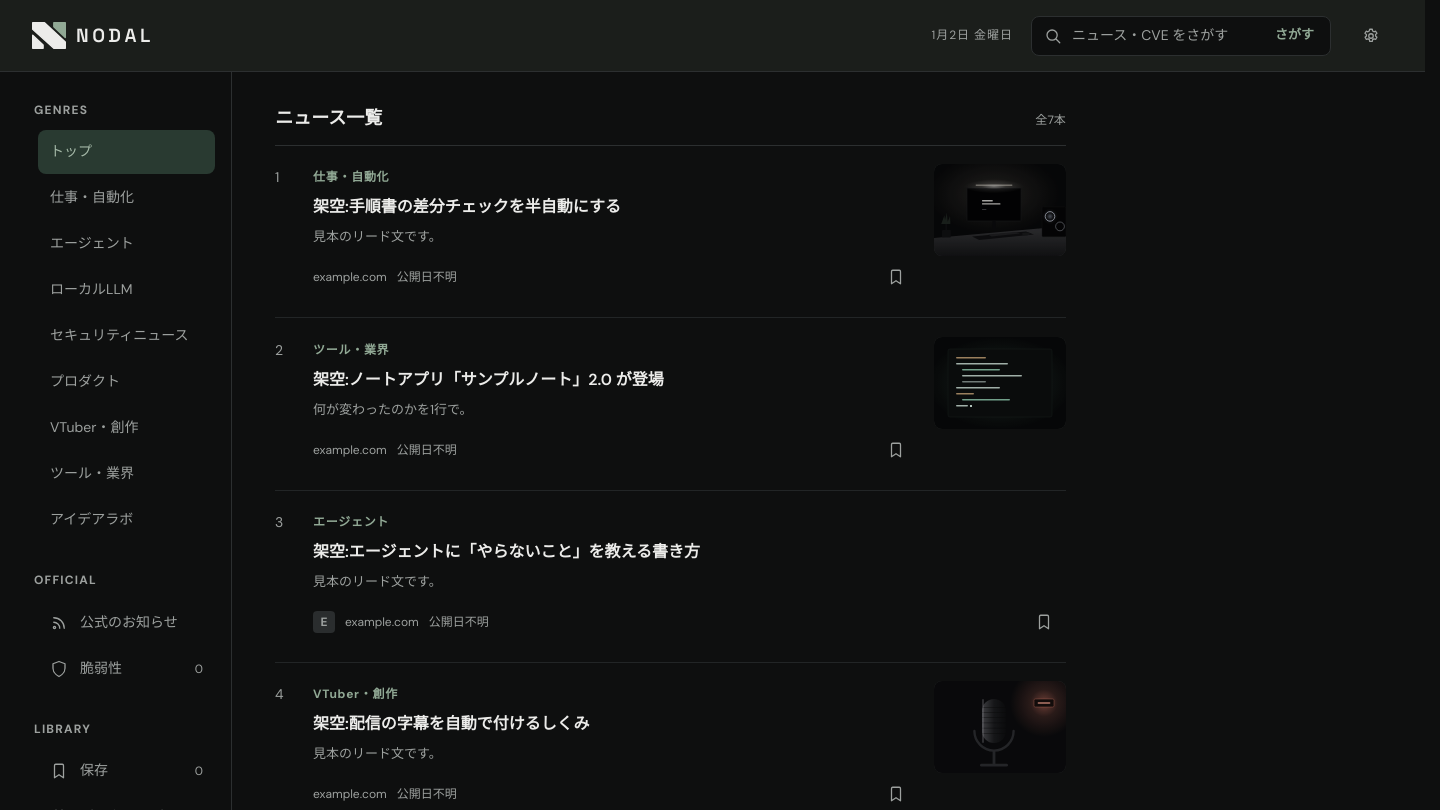
Test: トップ(今朝のネタ) › ラインナップの保存ボタンで保存でき、「保存しました」と知らせる。メニューの件数も変わる
(page scrolled)
Click the button named "保存する" below "架空:ノートアプリ「サンプルノート」2.0 が登場" at (896, 450), box [874,428,918,472]
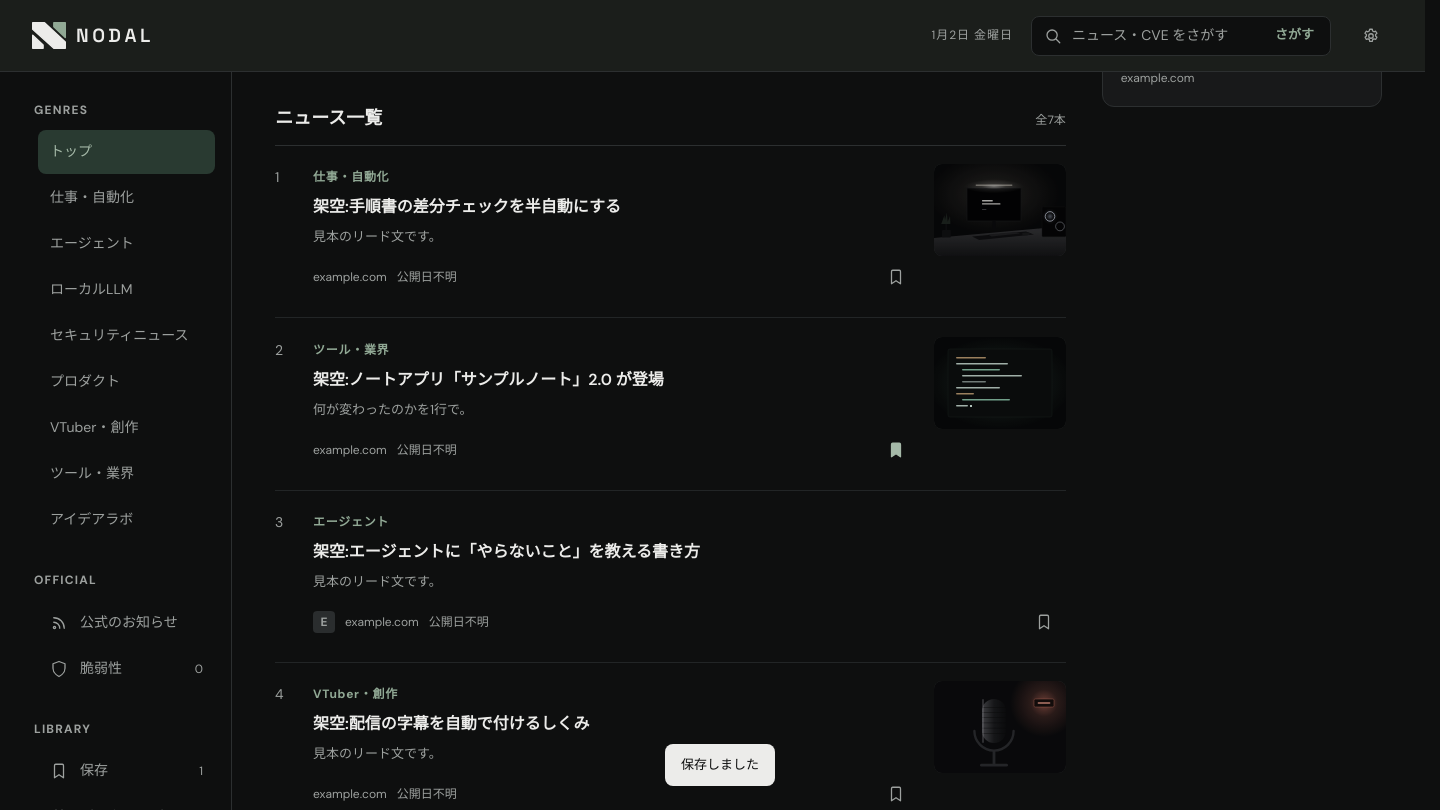
Result: the link "保存 1" is shown at [50,761,203,780]
